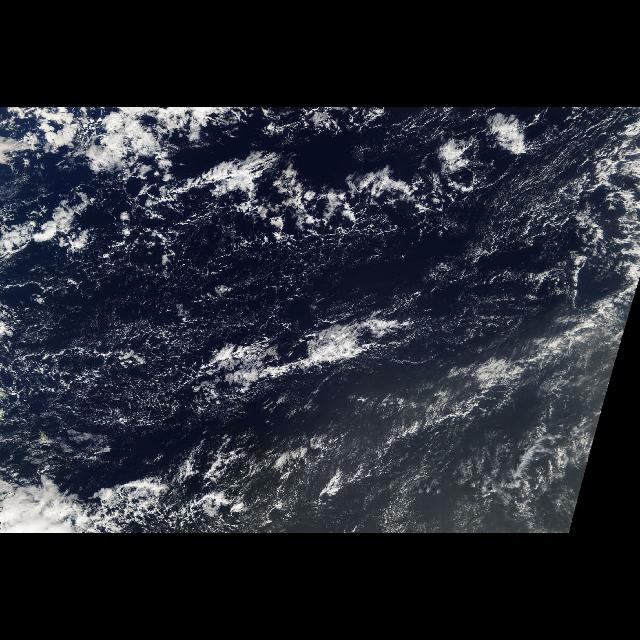Fish: (0, 111, 552, 266), (11, 441, 375, 533)
Gravel: (2, 110, 638, 524)
Sugar: (0, 280, 222, 460)
